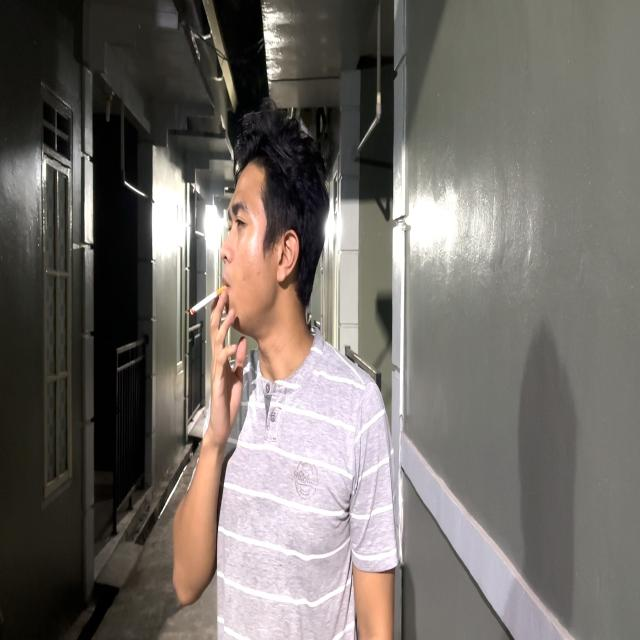cigarette: (188, 281, 229, 320)
smoking: (171, 102, 331, 616)
